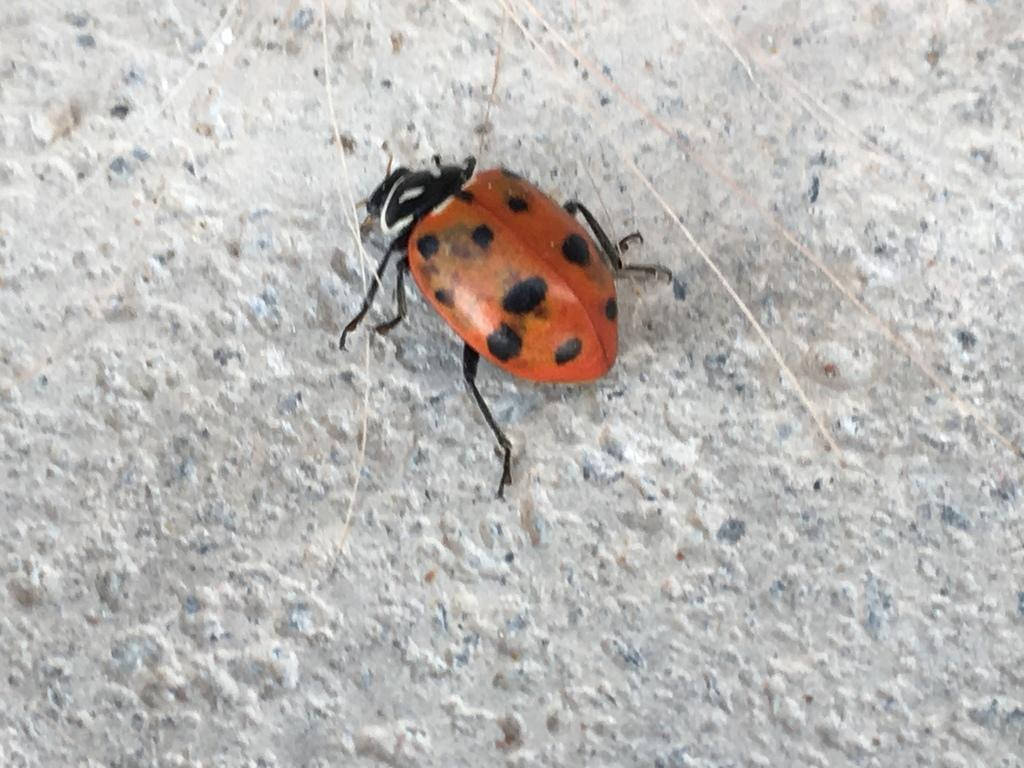ladybug: (337, 141, 679, 505)
